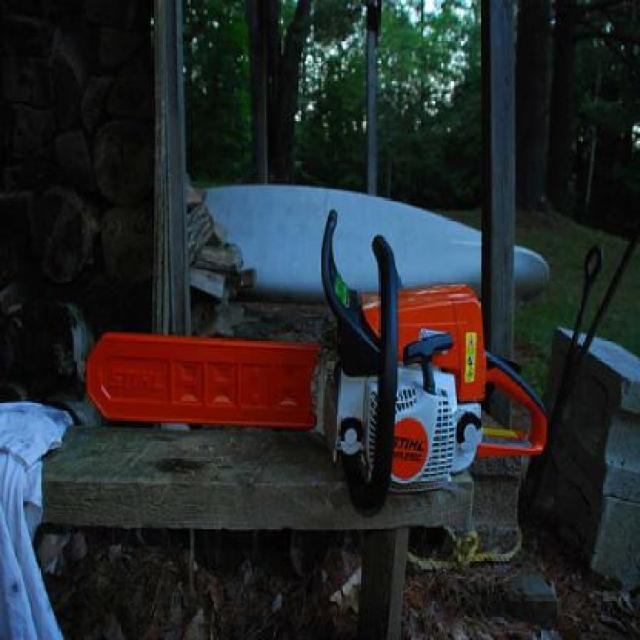Chainsaw: (83, 206, 546, 520)
